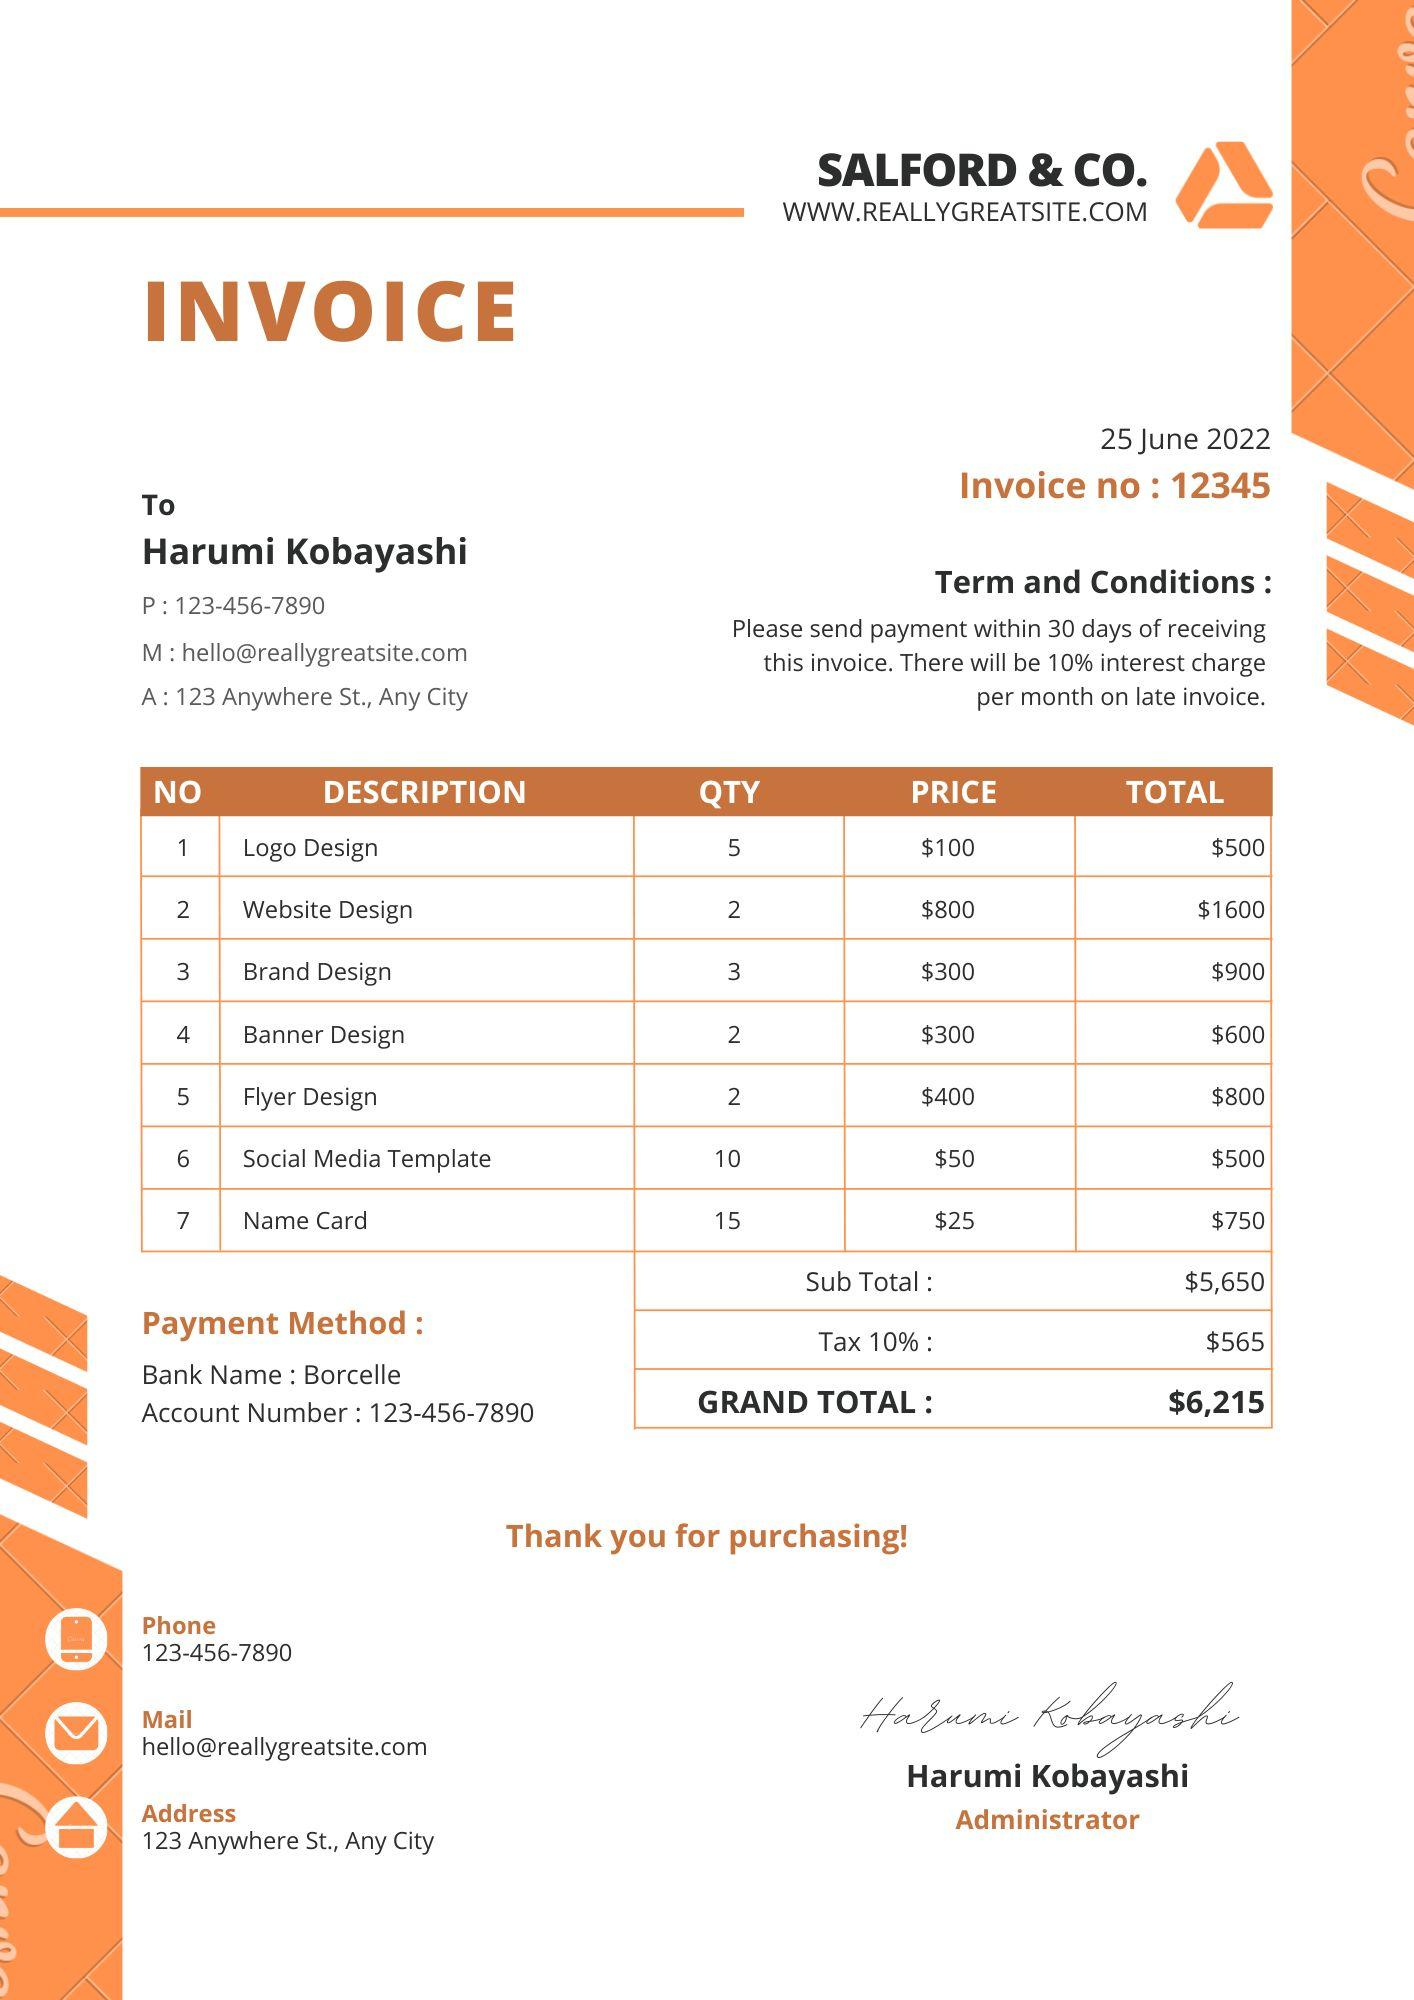ROI: (132, 757, 1282, 1258)
